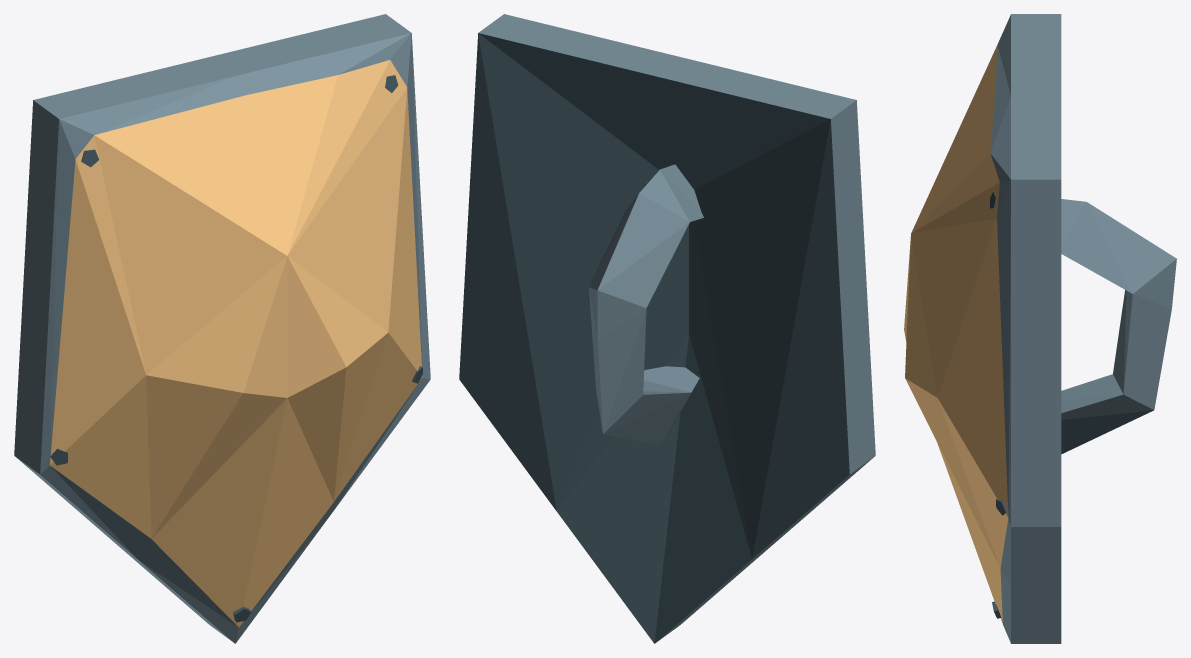
File: PurpleD.fbx
The picture shows the model from 3 angles, left to right: view 1: azimuth 30°, elevation 25°; view 2: azimuth 150°, elevation 25°; view 3: azimuth 270°, elevation 25°; orthographic projection. The views are drawn at different scales.
Visible parts, largest first — view 1: group_849470079; view 2: group_849470079, group_258681752; view 3: group_849470079, group_258681752.
Part boxes in pixels (<box>): group_849470079: <box>14,14,430,643</box>; group_849470079: <box>459,14,875,643</box>; group_258681752: <box>589,164,703,444</box>; group_849470079: <box>904,14,1061,643</box>; group_258681752: <box>1061,199,1176,454</box>.
Size of the model in its own units: 46.84 by 65.07 by 29.42.
